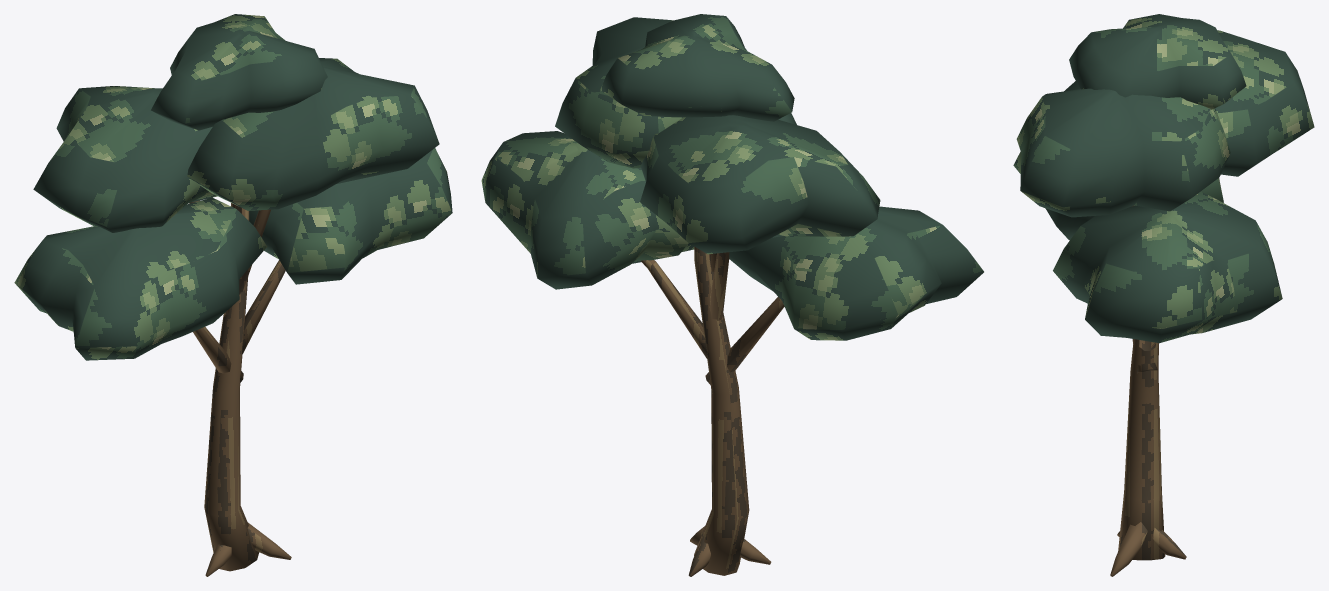
File: broadleaf-graphic.glb
3 views of the same model, side by side, from view 1: azimuth 30°, elevation 25°; view 2: azimuth 150°, elevation 25°; view 3: azimuth 270°, elevation 25° (orthographic). The views are drawn at different scales.
Parts seen in each view (by area): view 1: broadleaf-graphic runtime mesh; view 2: broadleaf-graphic runtime mesh; view 3: broadleaf-graphic runtime mesh.
Boxes of the visible parts, left/top/right/bottom form: broadleaf-graphic runtime mesh: left=14, top=14, right=452, bottom=576; broadleaf-graphic runtime mesh: left=481, top=14, right=983, bottom=576; broadleaf-graphic runtime mesh: left=1013, top=14, right=1314, bottom=576.
Size of the model in its own units: 3.63 by 4.2 by 2.11.
2 materials, 2 textured.
